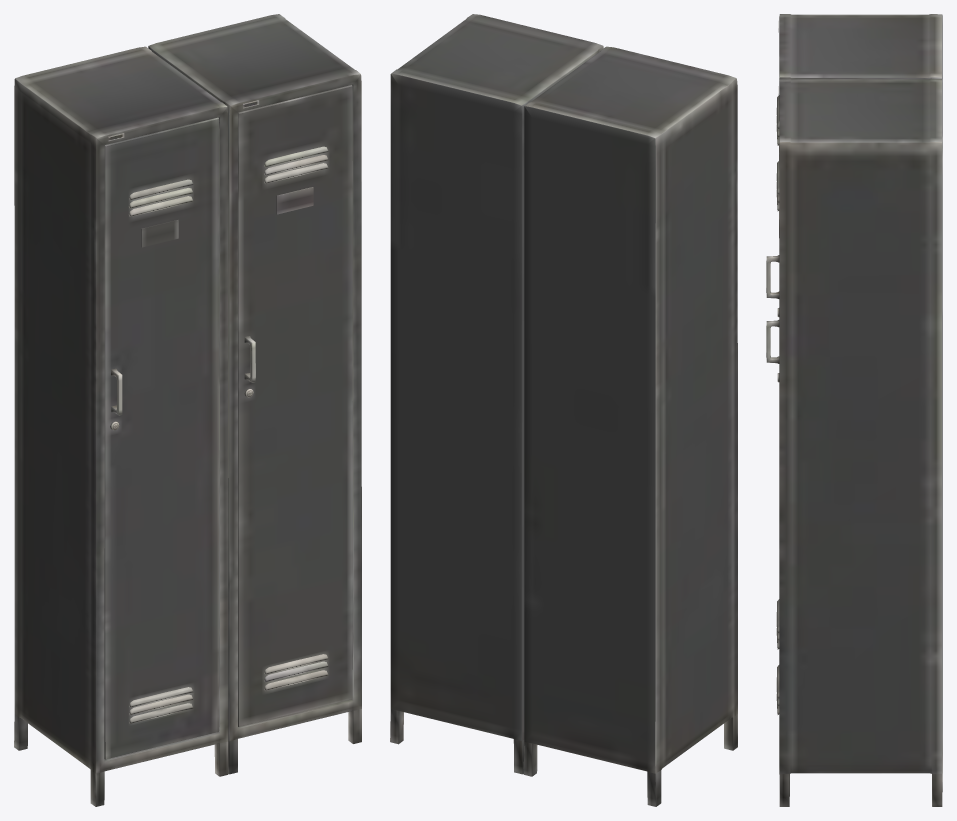
Rendered from SM_Office_Wardrobe_6fa3d6.glb.
3 renders of one model, left to right at view 1: azimuth 30°, elevation 25°; view 2: azimuth 150°, elevation 25°; view 3: azimuth 270°, elevation 25°, orthographic.
Size of the model in its own units: 0.7499 by 1.8 by 0.4317.
Materials: 1 (1 with a texture image).
